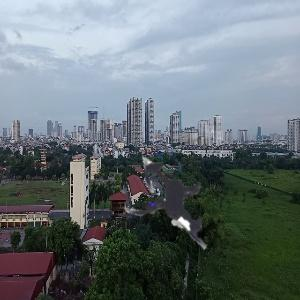drone: (87, 122, 258, 293)
